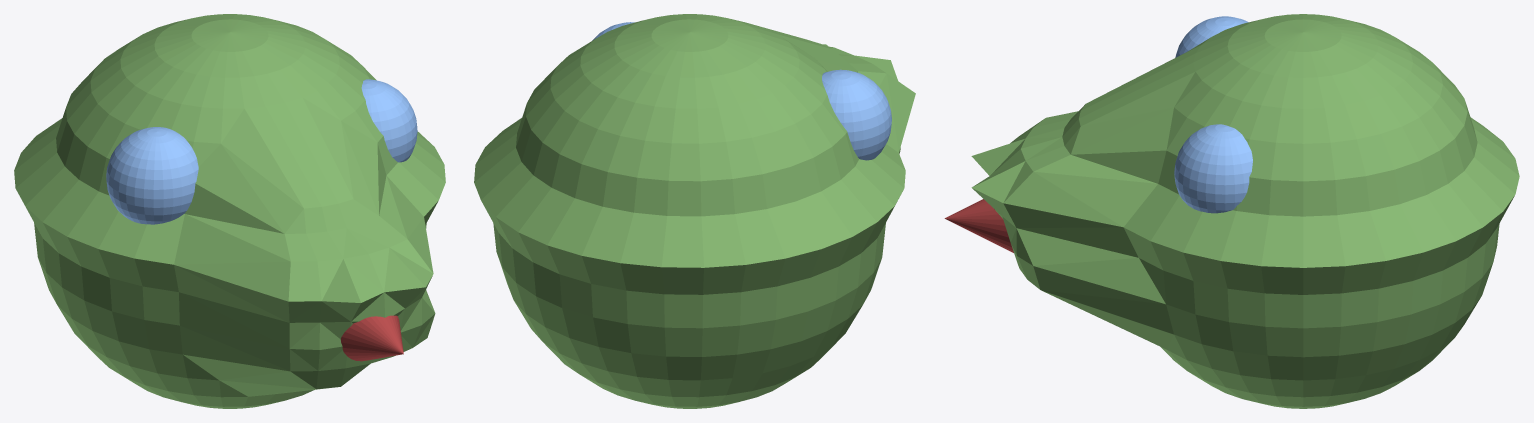
The model's file is snekhed.dae.
3 views of the same model, side by side, from view 1: azimuth 30°, elevation 25°; view 2: azimuth 150°, elevation 25°; view 3: azimuth 270°, elevation 25° (orthographic).
Visible parts, largest first — view 1: Head, Eye_Right, Eye_Left, Tongue; view 2: Head, Eye_Right; view 3: Head, Eye_Left, Tongue, Eye_Right.
Part boxes in pixels (x1,y1,x2,y2): Head: (14, 14, 445, 408); Eye_Right: (106, 127, 198, 224); Eye_Left: (361, 79, 417, 162); Tongue: (340, 315, 403, 361); Head: (474, 14, 915, 408); Eye_Right: (822, 69, 891, 160); Head: (971, 14, 1519, 408); Eye_Left: (1174, 124, 1252, 213); Tongue: (944, 199, 1013, 252); Eye_Right: (1175, 16, 1248, 57).
Bounding box in the file's own units: 2.19 × 2 × 2.91.
